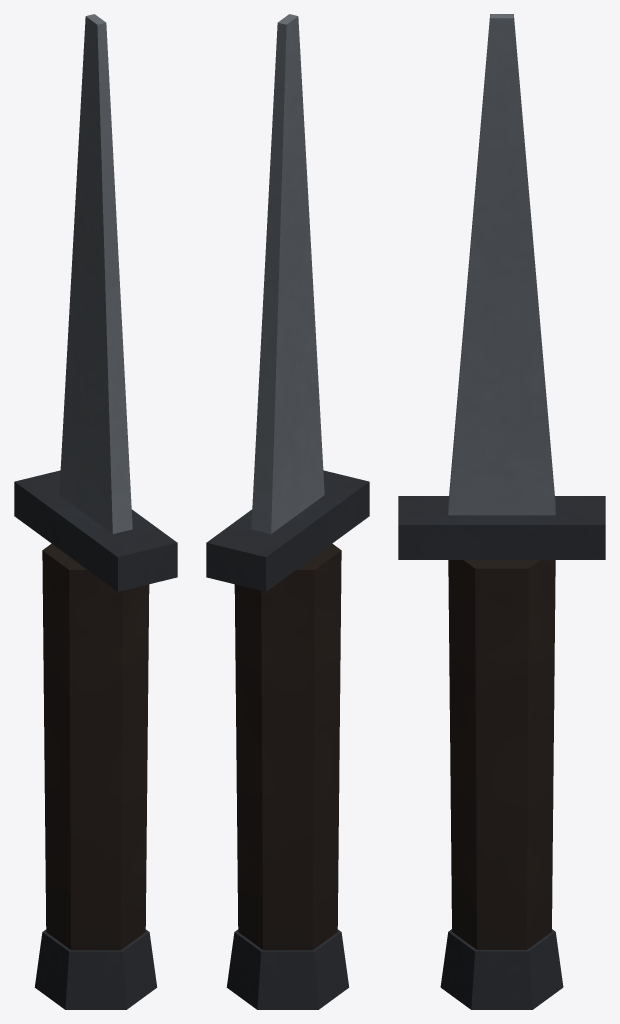
File: weapon_knife.glb
3 renders of one model, left to right at view 1: azimuth 30°, elevation 25°; view 2: azimuth 150°, elevation 25°; view 3: azimuth 270°, elevation 25°, orthographic.
Parts seen in each view (by area): view 1: Weapon_Knife; view 2: Weapon_Knife; view 3: Weapon_Knife.
Part boxes in pixels (bbox=[...]): Weapon_Knife: bbox=[14, 14, 177, 1009]; Weapon_Knife: bbox=[206, 14, 369, 1009]; Weapon_Knife: bbox=[398, 14, 605, 1009].
Size of the model in its own units: 0.0277 by 0.279 by 0.054.
3 materials, 3 textured.
